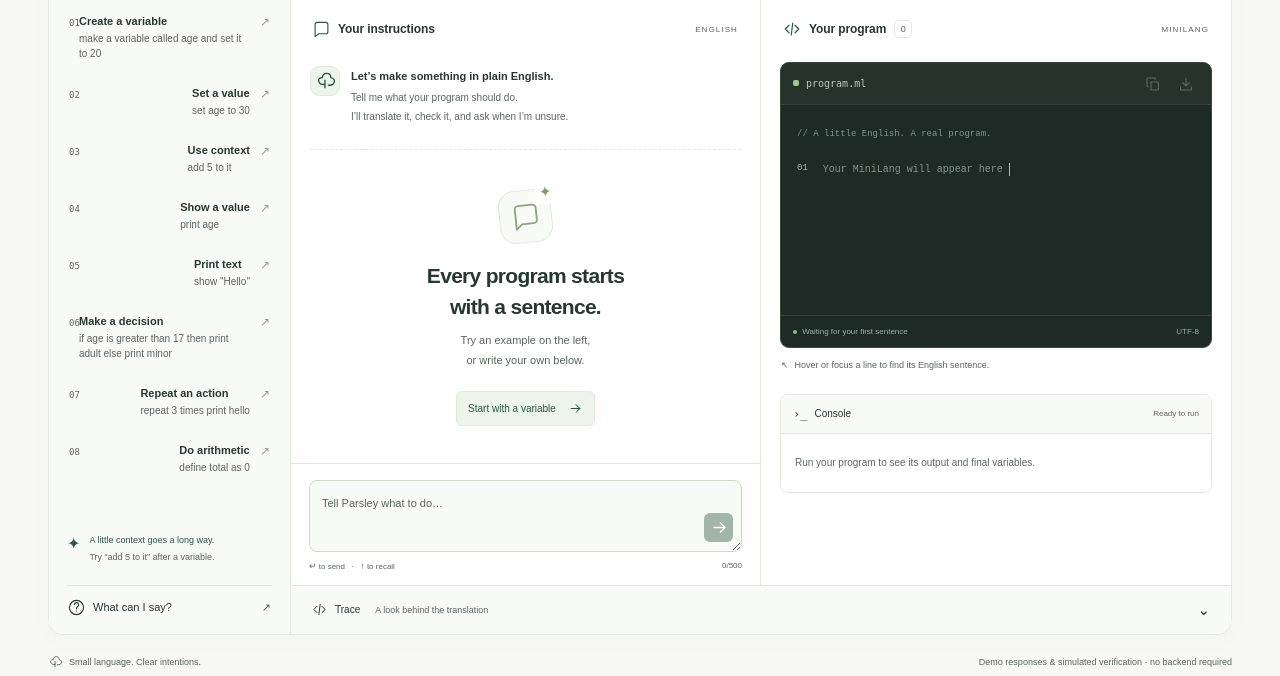
Scenario: backend decision UI › confirms a derived value with Yes and declines it with No without changing program
Earlier steps of the test are not shown.
(page scrolled)
Step 1. Type "set x to 10" into the text box named "English sentence" → x=526, y=516, box [309,480,742,552]
Step 2. Press Enter in the text box named "English sentence", box [309,480,742,552]
(page scrolled)
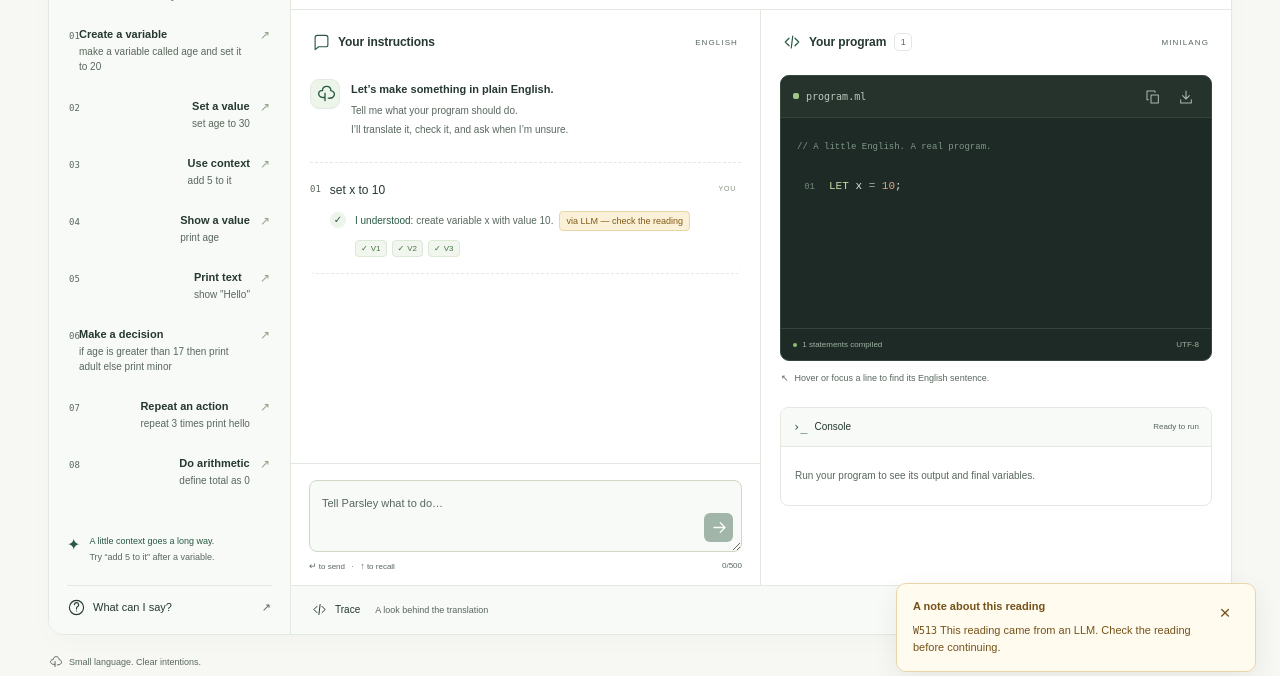
Now the button with aria-label "Line 1: LET x = 10;" is shown, box [781,172,1211,201]
Step 3. Type "double x" into the text box named "English sentence" → x=526, y=516, box [309,480,742,552]
Step 4. Press Enter in the text box named "English sentence", box [309,480,742,552]
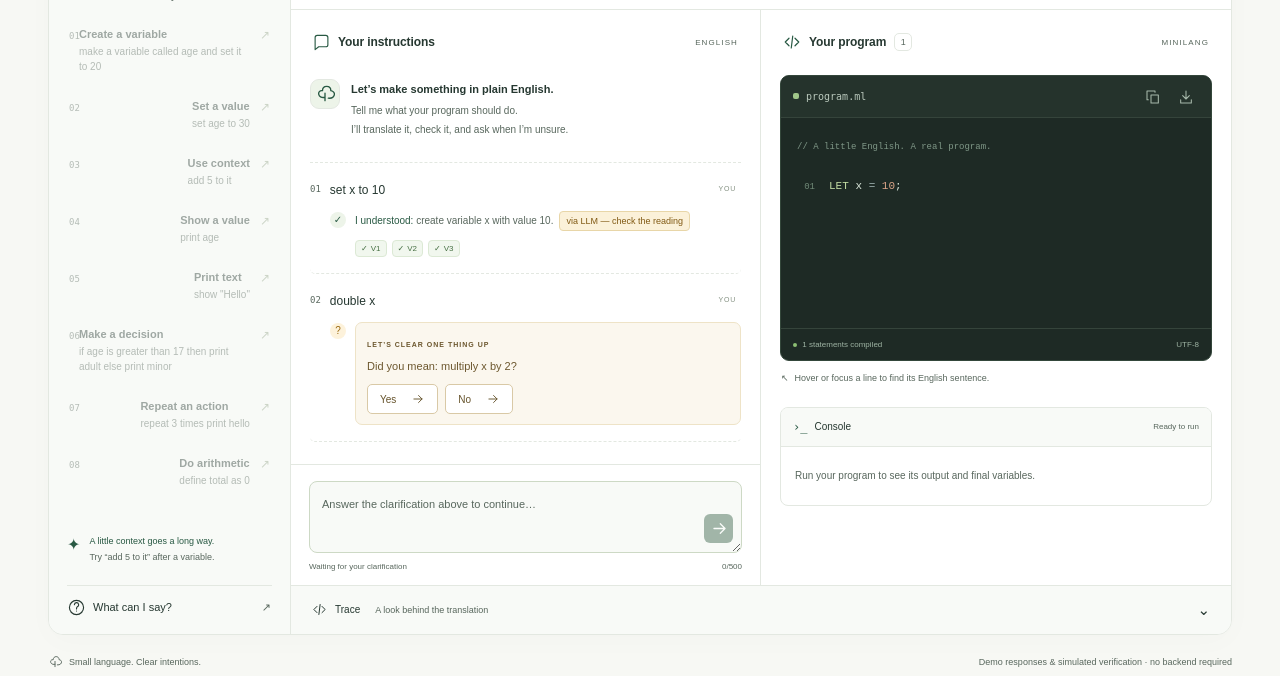
Now the text "Did you mean: multiply x by 2?" is shown, box [367,360,517,372]
Step 5. Click the button "No" → x=479, y=399, box [445,384,513,414]
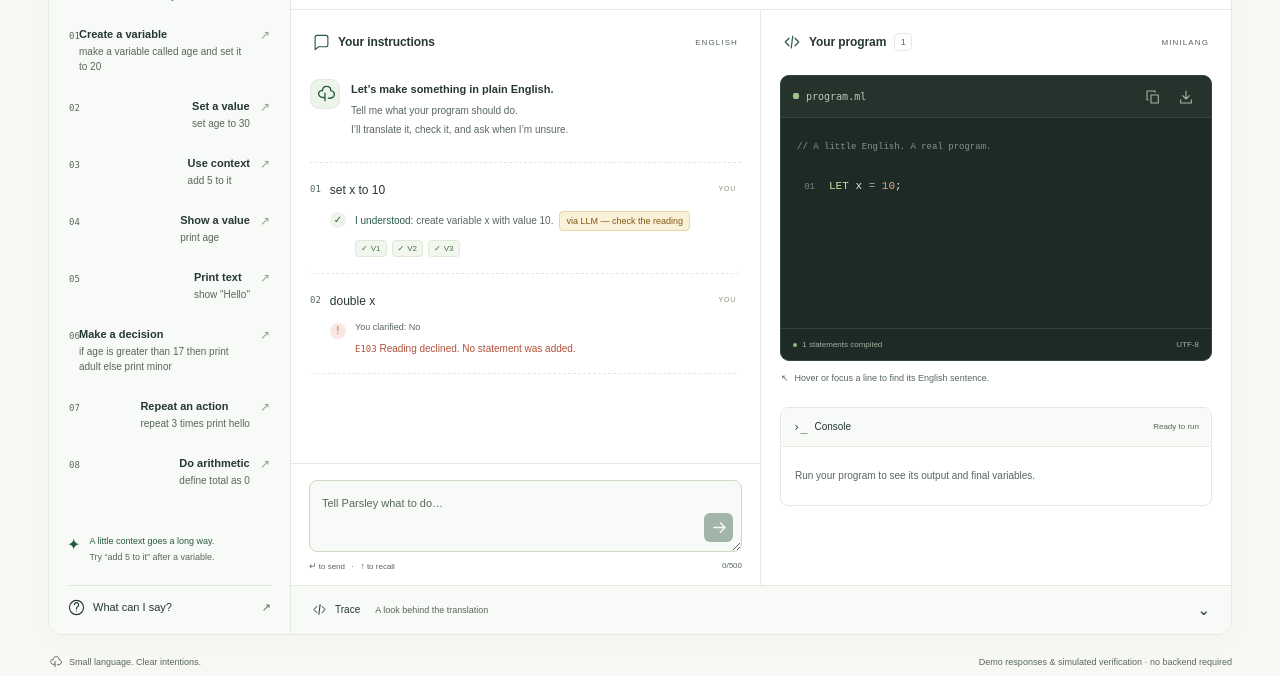
Now the text box named "English sentence" is enabled
Step 6. Type "double x" into the text box named "English sentence" → x=526, y=516, box [309,480,742,552]
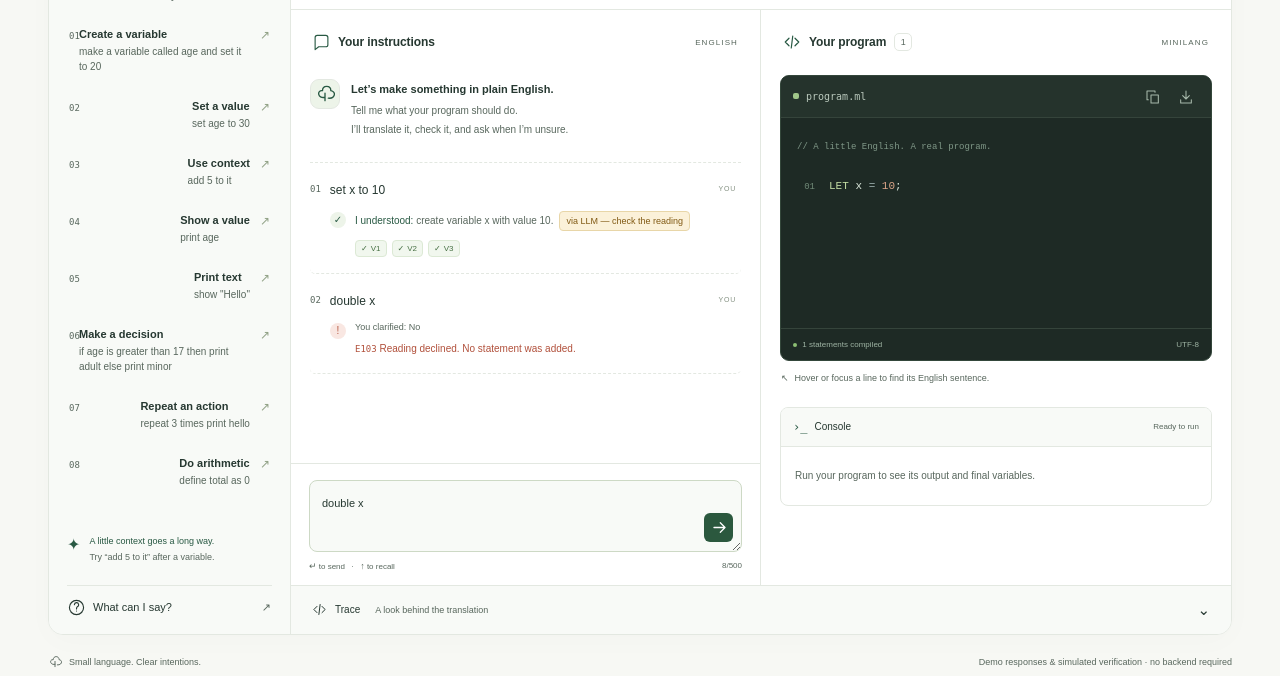
Step 7. Press Enter in the text box named "English sentence", box [309,480,742,552]
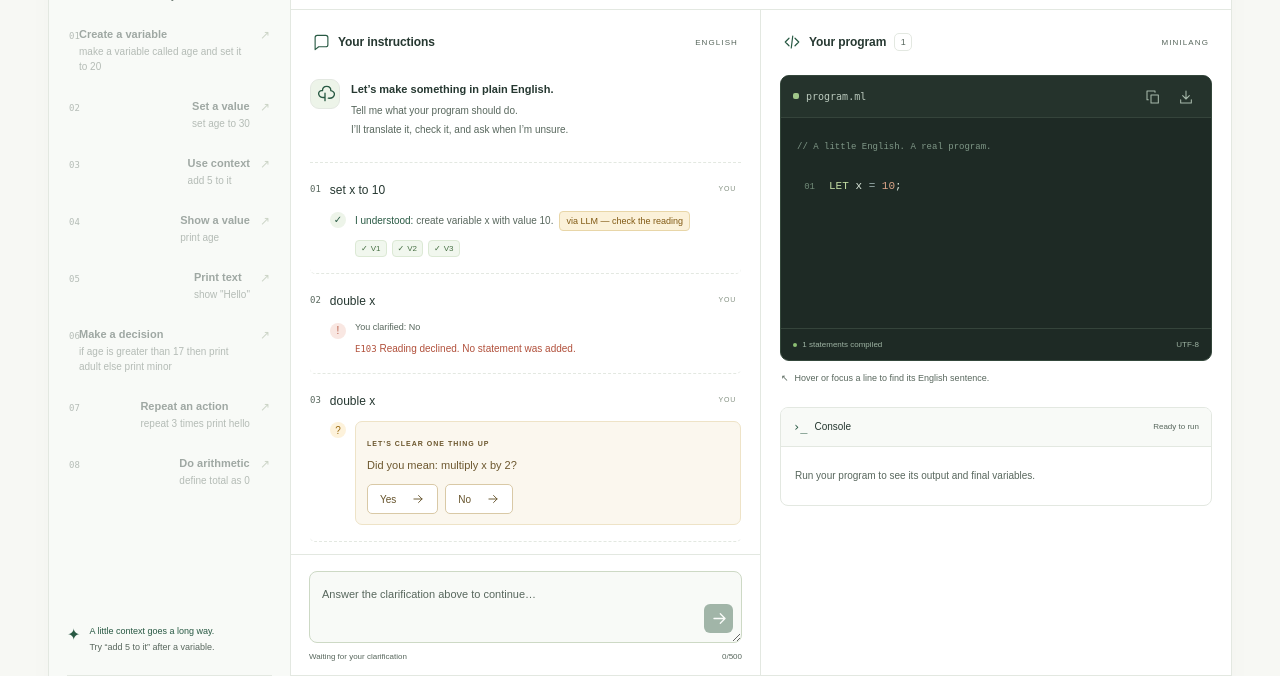
Step 8. Click the button "Yes" → x=403, y=499, box [367,484,438,514]
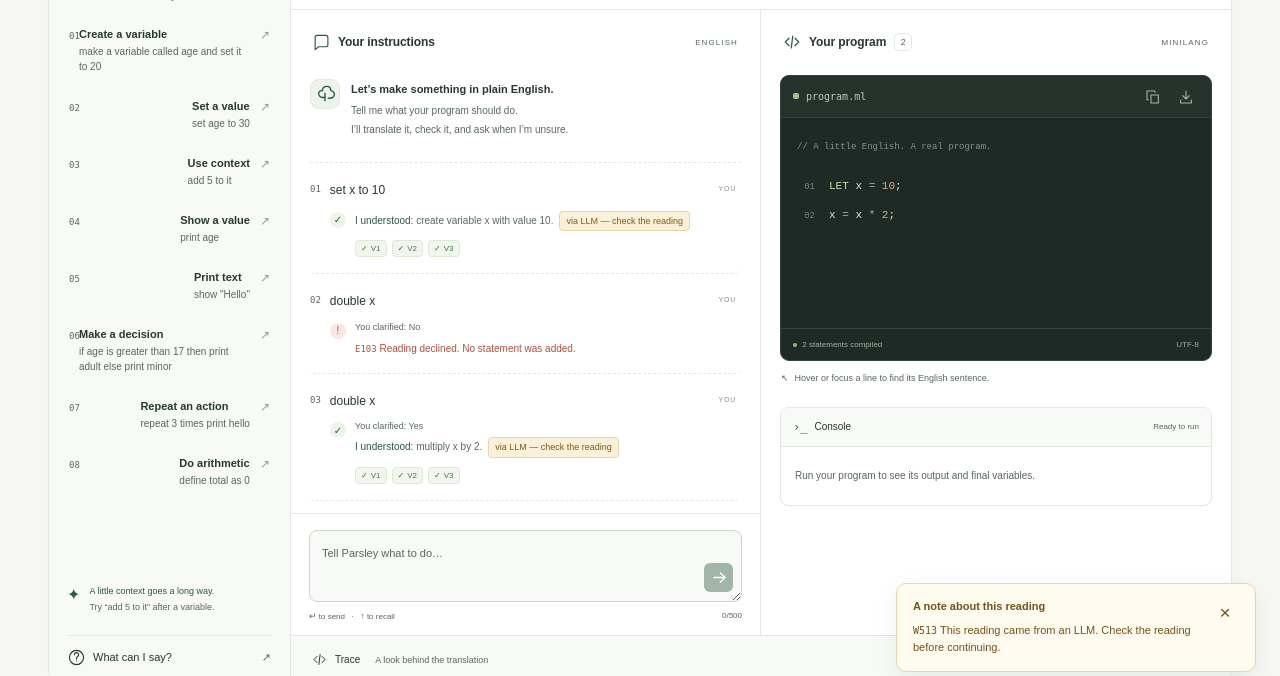
Now the button named "Line 2: x = x * 2;" is shown, box [781,201,1211,229]
